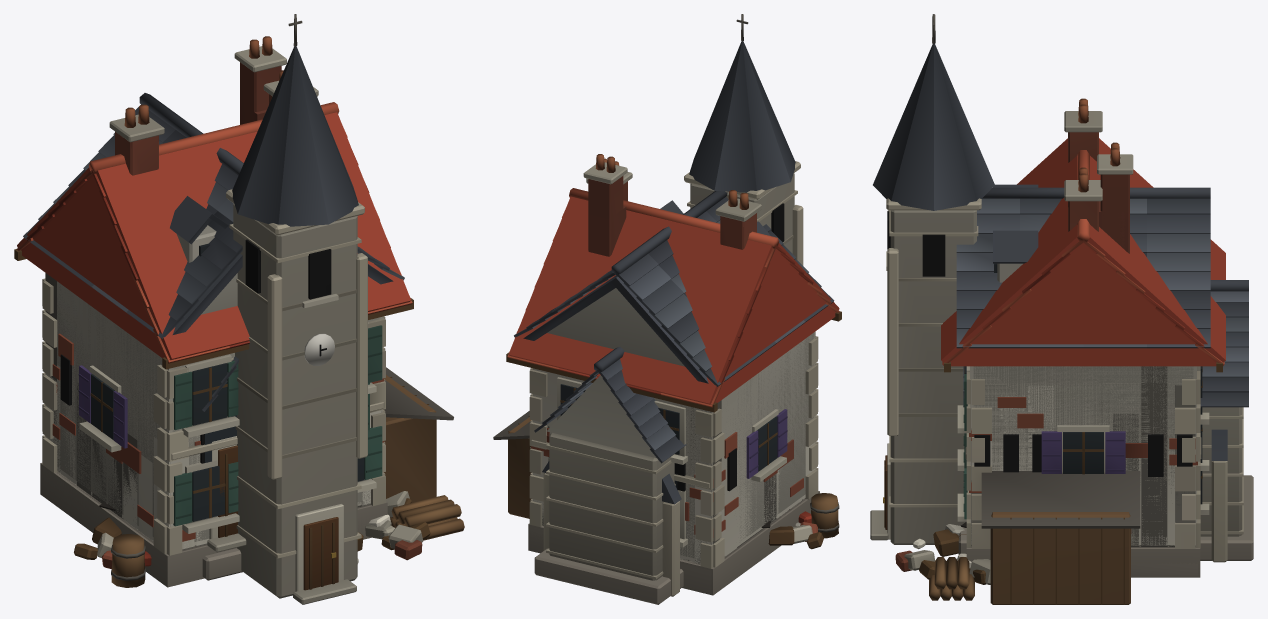
Rendered from units.glb.
The picture shows the model from 3 angles, left to right: view 1: azimuth 30°, elevation 25°; view 2: azimuth 150°, elevation 25°; view 3: azimuth 270°, elevation 25°; orthographic projection. The views are drawn at different scales.
Parts seen in each view (by area): view 1: church, house_a, house_a_lo, house_b, house_ruin_b, house_ruin, house_b_lo; view 2: church, house_a_lo, house_a, house_b, house_ruin_b, house_b_lo, house_ruin; view 3: house_a, church, house_a_lo, house_b, house_ruin_b, house_ruin.
Part boxes in pixels (x1=…): church: x1=202, y1=14, x2=367, y2=604; house_a: x1=14, y1=36, x2=464, y2=587; house_a_lo: x1=17, y1=109, x2=410, y2=587; house_b: x1=23, y1=70, x2=404, y2=541; house_ruin_b: x1=46, y1=273, x2=430, y2=566; house_ruin: x1=46, y1=364, x2=411, y2=568; house_b_lo: x1=131, y1=142, x2=393, y2=334; church: x1=534, y1=14, x2=803, y2=604; house_a_lo: x1=508, y1=196, x2=839, y2=595; house_a: x1=493, y1=154, x2=841, y2=592; house_b: x1=514, y1=158, x2=834, y2=557; house_ruin_b: x1=531, y1=400, x2=823, y2=563; house_b_lo: x1=523, y1=221, x2=743, y2=383; house_ruin: x1=542, y1=416, x2=817, y2=563; house_a: x1=929, y1=142, x2=1224, y2=604; church: x1=870, y1=14, x2=1253, y2=562; house_a_lo: x1=941, y1=138, x2=1225, y2=577; house_b: x1=956, y1=98, x2=1210, y2=521; house_ruin_b: x1=895, y1=366, x2=1197, y2=579; house_ruin: x1=956, y1=385, x2=1195, y2=584.
Bounding box in the file's own units: 1.6 × 2.58 × 1.69.
